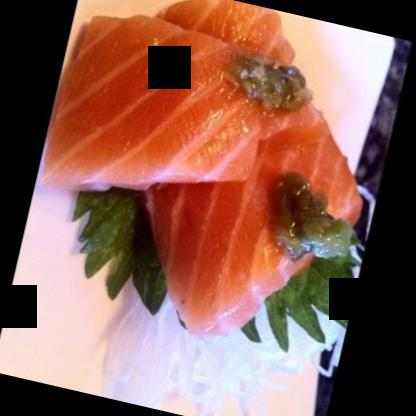salmon: (83, 0, 394, 362), (35, 9, 276, 230)
